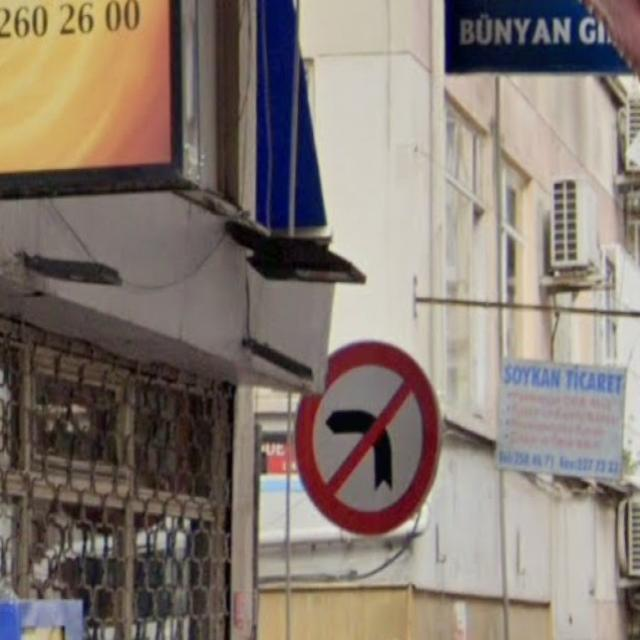soladonulmez: (296, 340, 439, 536)
